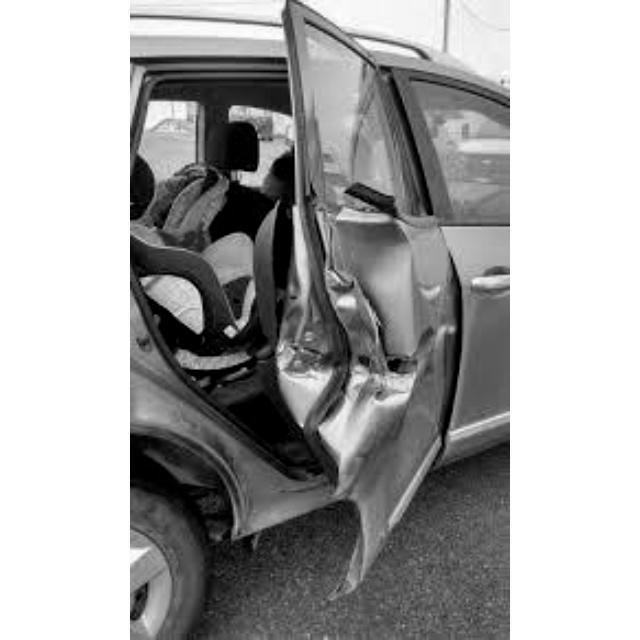doorouter-dent: (156, 64, 442, 490)
